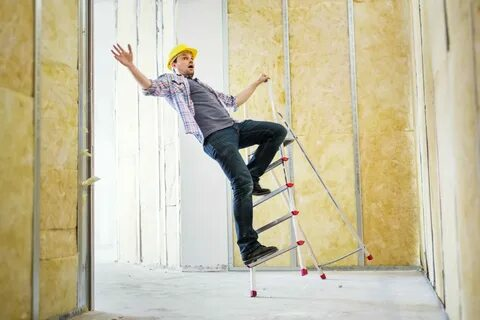awake: (113, 43, 288, 265)
